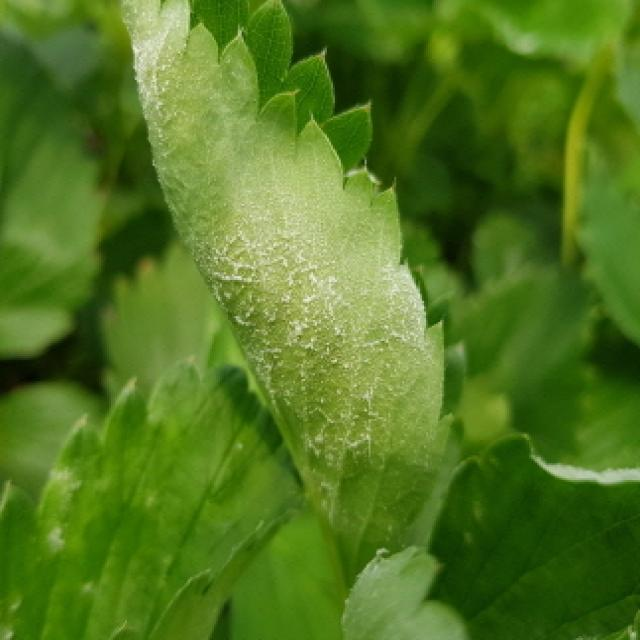Powdery Mildew Leaf: (112, 0, 468, 596), (0, 355, 307, 640), (423, 433, 640, 640)
